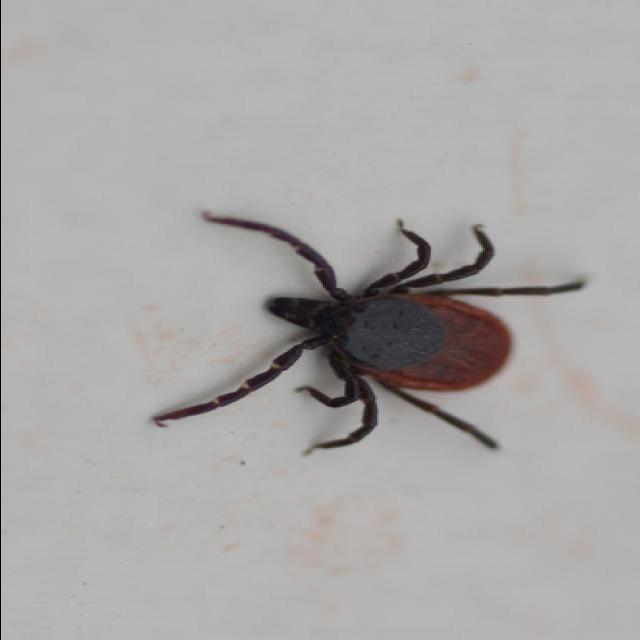Ixodes Ricinus-F: (152, 211, 582, 456)
